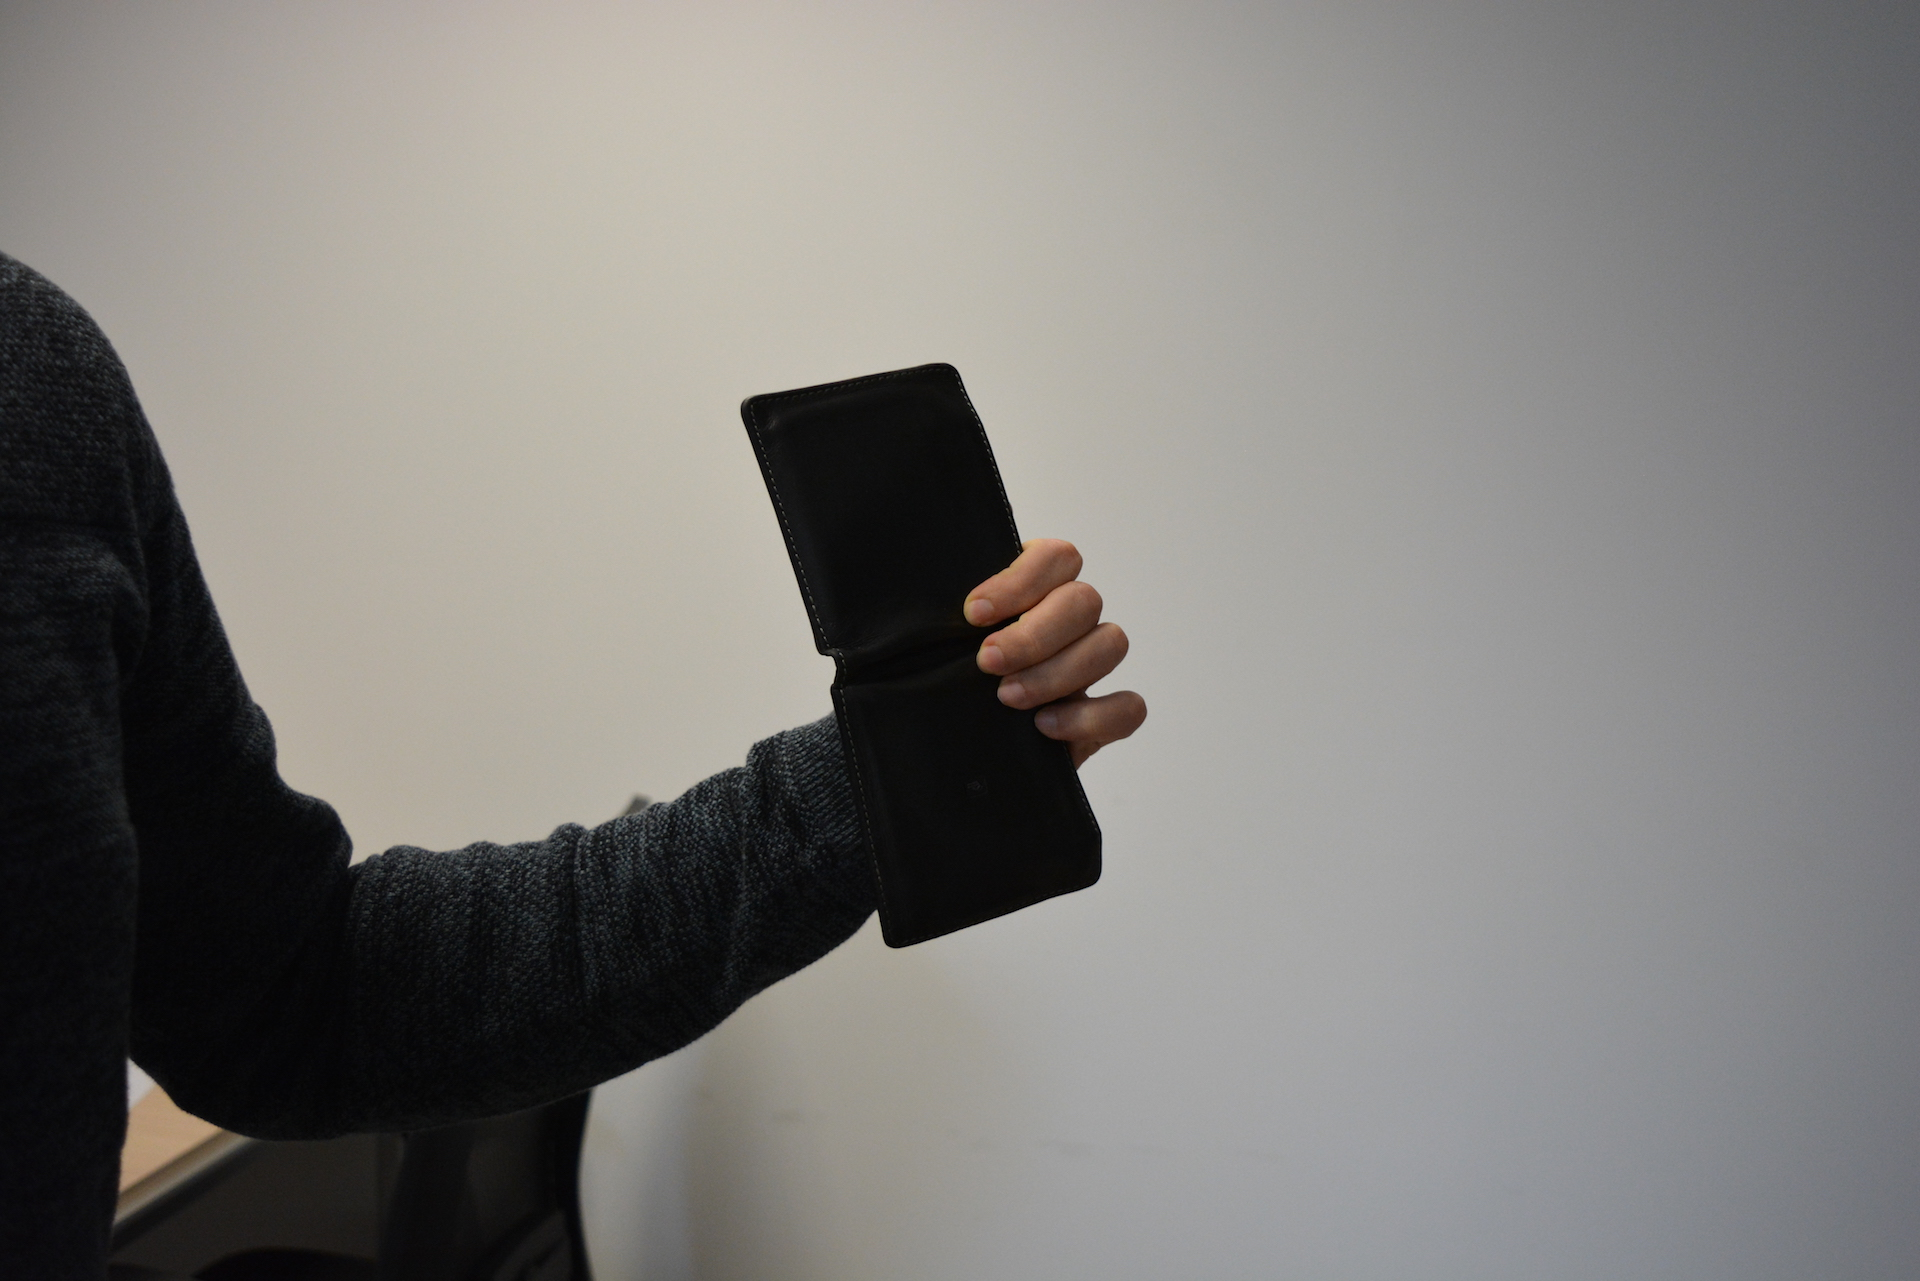monedero: (738, 362, 1105, 951)
